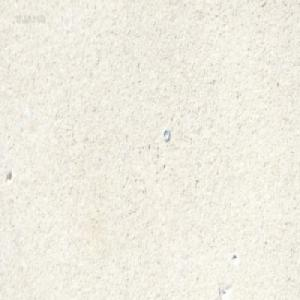Washer: (163, 127, 170, 141)
